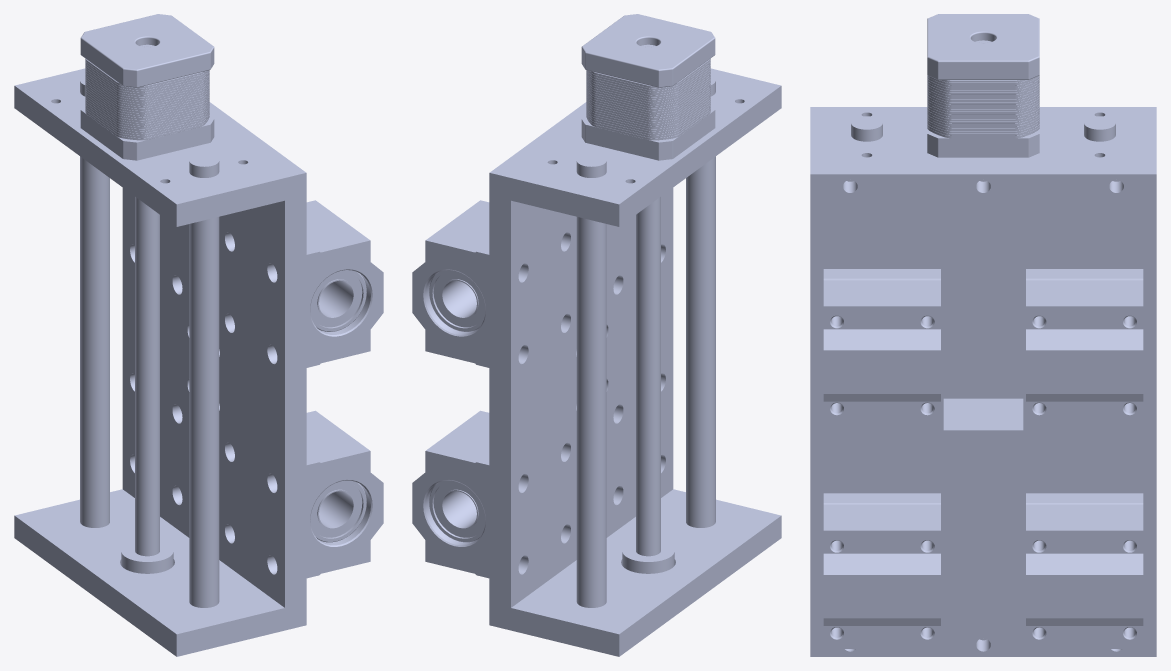
3 views of the same model, side by side, from view 1: azimuth 30°, elevation 25°; view 2: azimuth 150°, elevation 25°; view 3: azimuth 270°, elevation 25° (orthographic). The views are drawn at different scales.
Visible parts, largest first — view 1: NAUO1, NAUO8, NAUO10, NAUO9, NAUO2, NAUO3, NAUO7, NAUO5, NAUO12; view 2: NAUO1, NAUO8, NAUO10, NAUO9, NAUO3, NAUO2, NAUO4, NAUO6, NAUO12; view 3: NAUO1, NAUO4, NAUO5, NAUO6, NAUO7, NAUO10, NAUO9, NAUO11, NAUO2, NAUO3.
Boxes of the visible parts, <box> form: NAUO1: <box>122,102,306,630</box>; NAUO8: <box>14,489,284,656</box>; NAUO10: <box>80,14,214,160</box>; NAUO9: <box>14,68,284,226</box>; NAUO2: <box>189,154,219,607</box>; NAUO3: <box>80,76,109,527</box>; NAUO7: <box>306,200,383,367</box>; NAUO5: <box>306,410,383,578</box>; NAUO12: <box>121,197,173,573</box>; NAUO1: <box>489,102,673,630</box>; NAUO8: <box>511,489,781,656</box>; NAUO10: <box>581,14,715,160</box>; NAUO9: <box>511,68,781,226</box>; NAUO3: <box>576,154,606,607</box>; NAUO2: <box>686,76,715,527</box>; NAUO4: <box>412,200,489,367</box>; NAUO6: <box>412,410,489,578</box>; NAUO12: <box>622,197,674,573</box>; NAUO1: <box>810,163,1156,656</box>; NAUO4: <box>1026,269,1143,424</box>; NAUO5: <box>823,493,940,648</box>; NAUO6: <box>1026,493,1143,648</box>; NAUO7: <box>823,269,940,424</box>; NAUO10: <box>927,14,1039,157</box>; NAUO9: <box>810,107,1156,181</box>; NAUO11: <box>943,398,1023,514</box>; NAUO2: <box>851,116,882,141</box>; NAUO3: <box>1084,116,1115,141</box>.
Size of the model in its own units: 0.0985 by 0.24 by 0.13.
